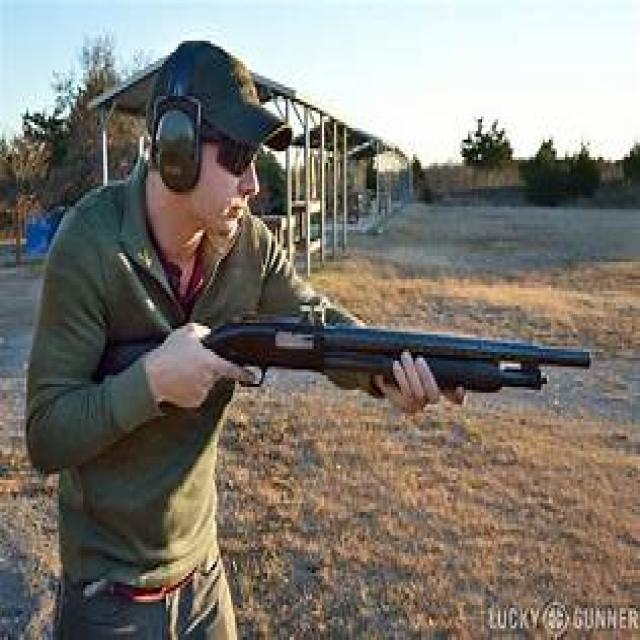Rifle: (118, 283, 599, 447)
